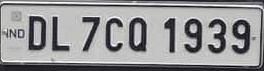character: (26, 14, 47, 52), (50, 14, 71, 52), (80, 15, 101, 52), (127, 16, 148, 53), (182, 17, 203, 54), (230, 17, 251, 54), (104, 16, 125, 52), (207, 17, 227, 54), (162, 16, 177, 54)
